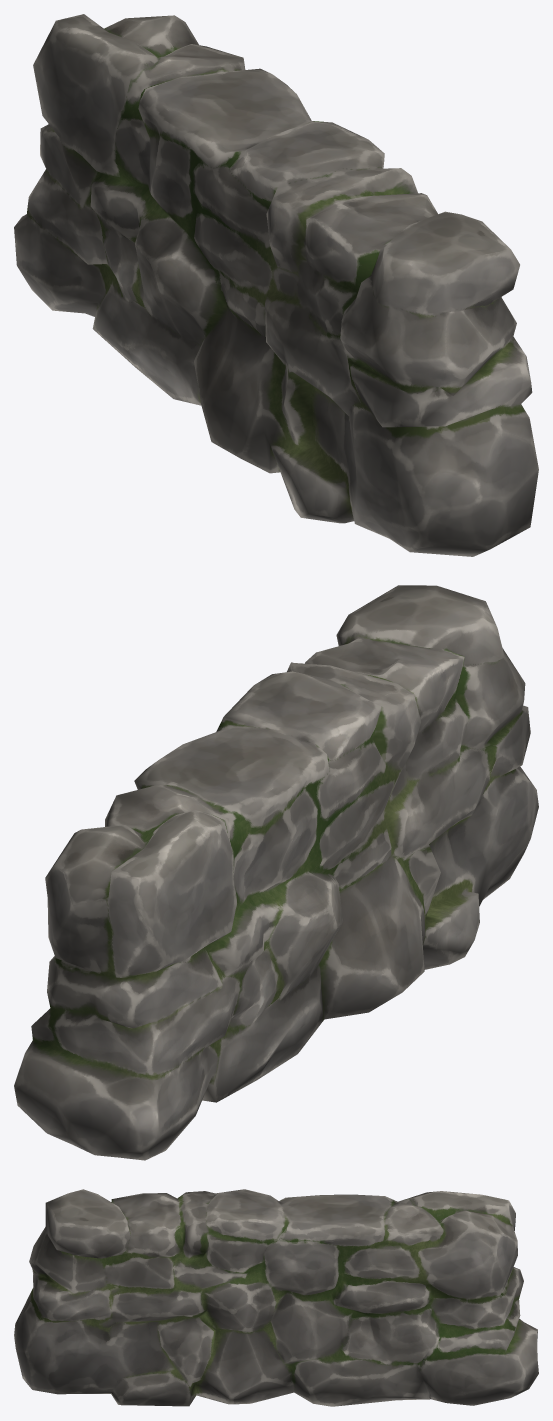
Rendered from Dry_Stone_Wall.fbx.
3 renders of one model, top to bottom at view 1: azimuth 30°, elevation 25°; view 2: azimuth 150°, elevation 25°; view 3: azimuth 270°, elevation 25°, orthographic. The views are drawn at different scales.
Parts seen in each view (by area): view 1: polySurface41; view 2: polySurface41; view 3: polySurface41.
Boxes of the visible parts, x1,y1,x2,y2 form: polySurface41: [14, 14, 538, 556]; polySurface41: [14, 585, 538, 1160]; polySurface41: [14, 1189, 538, 1406].
Bounding box in the file's own units: 14.7 × 23.31 × 57.36.
